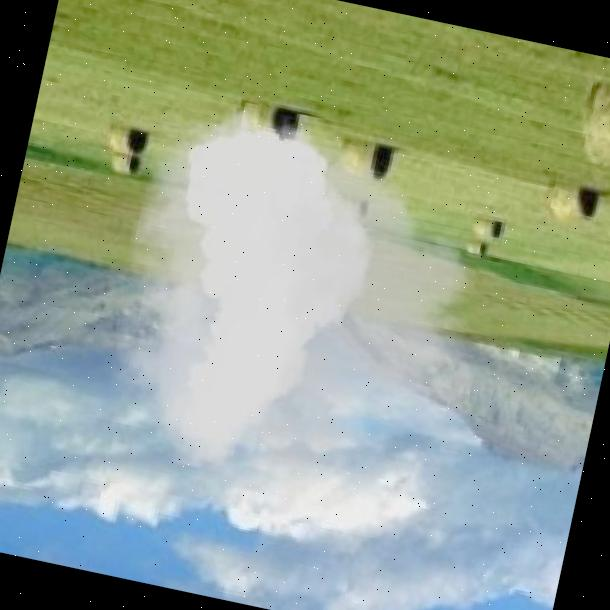smoke: (65, 98, 488, 520)
